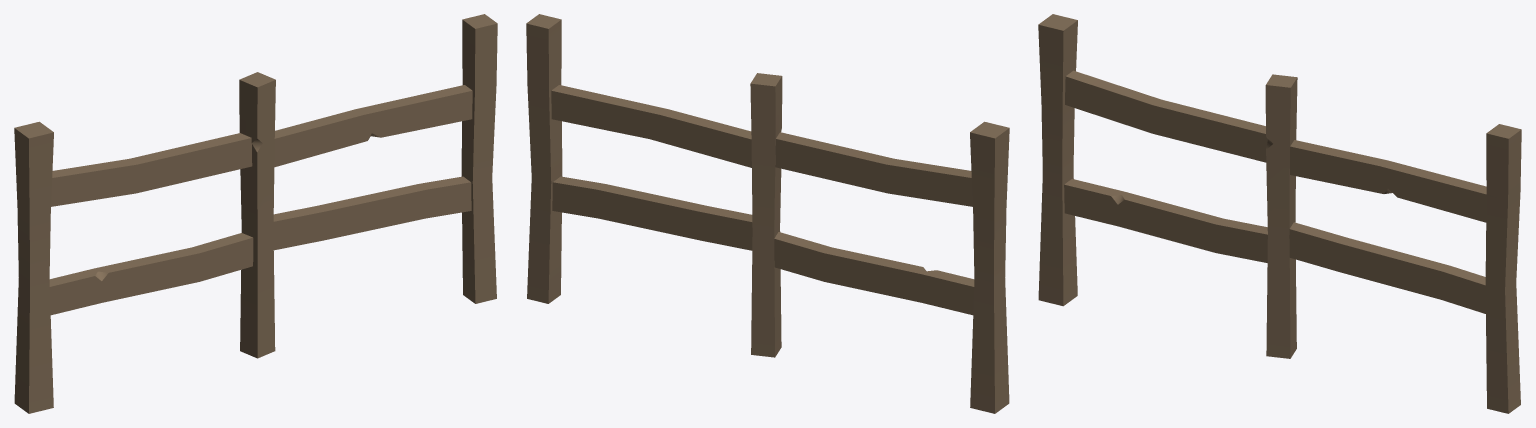
The model's file is fence_b_2m_node.FBX.
The picture shows the model from 3 angles, left to right: view 1: azimuth 30°, elevation 25°; view 2: azimuth 150°, elevation 25°; view 3: azimuth 330°, elevation 25°; orthographic projection.
Visible parts, largest first — view 1: fence_b_2m_node; view 2: fence_b_2m_node; view 3: fence_b_2m_node.
Boxes of the visible parts, left/top/right/bottom form: fence_b_2m_node: left=14, top=14, right=497, bottom=413; fence_b_2m_node: left=526, top=14, right=1009, bottom=413; fence_b_2m_node: left=1038, top=14, right=1521, bottom=413.
Bounding box in the file's own units: 2.1 × 1.18 × 0.123.
